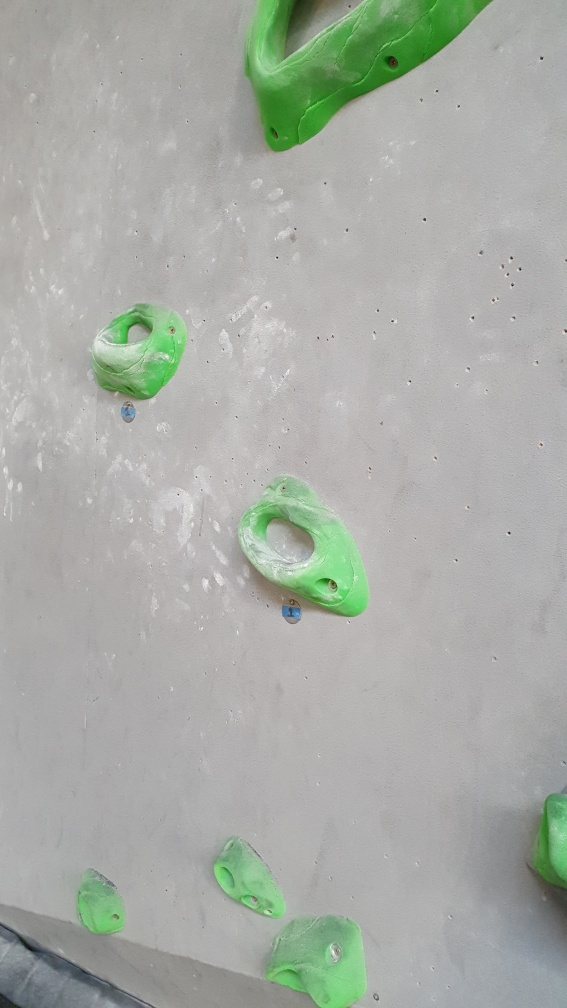Hand Start: (279, 598, 305, 629), (119, 400, 139, 425)
Pocket: (240, 1, 498, 154), (239, 471, 374, 620), (90, 299, 188, 400)
